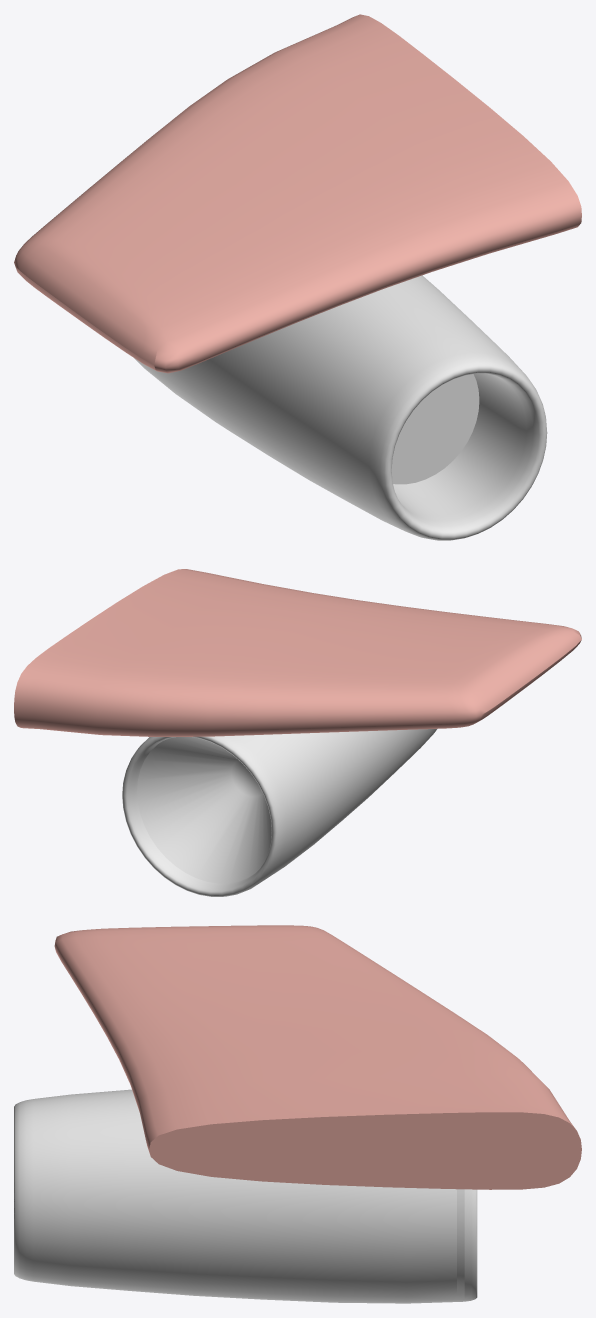
Rendered from PlaneLeft.glb.
The picture shows the model from 3 angles, top to bottom: view 1: azimuth 30°, elevation 25°; view 2: azimuth 150°, elevation 25°; view 3: azimuth 270°, elevation 25°; orthographic projection. The views are drawn at different scales.
Parts seen in each view (by area): view 1: PlaneLeft; view 2: PlaneLeft; view 3: PlaneLeft.
Boxes of the visible parts, bbox=[...] form: PlaneLeft: bbox=[14, 14, 581, 540]; PlaneLeft: bbox=[14, 569, 581, 896]; PlaneLeft: bbox=[14, 925, 581, 1303].
Bounding box in the file's own units: 0.3293 × 0.1905 × 0.3675.
